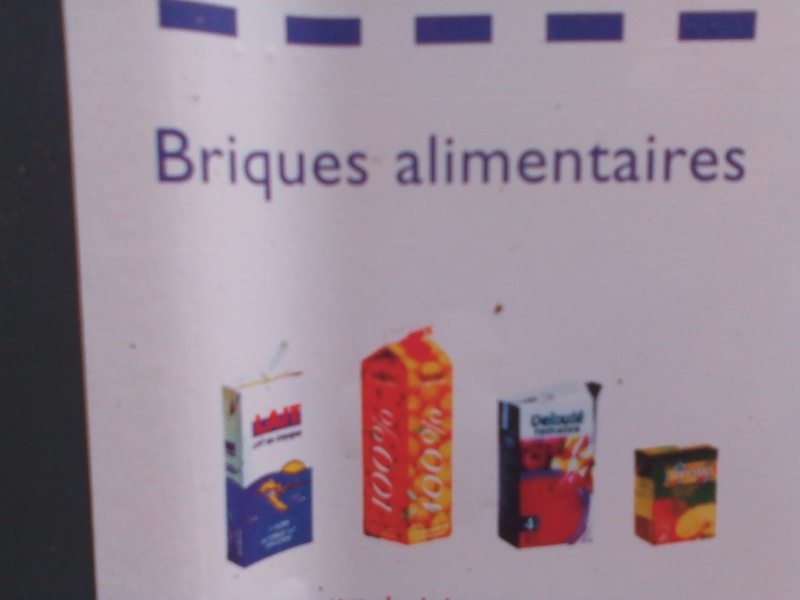text: (371, 404, 384, 514), (433, 404, 445, 514), (385, 404, 397, 514), (161, 125, 176, 207), (177, 125, 192, 207), (193, 125, 208, 207), (209, 125, 224, 207), (225, 125, 240, 207), (241, 125, 256, 207), (257, 125, 272, 207), (273, 125, 288, 207), (289, 125, 304, 207), (305, 125, 320, 207), (321, 125, 336, 207), (337, 125, 352, 207), (353, 125, 368, 207), (422, 404, 432, 514), (401, 133, 416, 190), (417, 133, 432, 190), (433, 133, 448, 190), (449, 133, 464, 190), (465, 133, 480, 190), (481, 133, 496, 190), (497, 133, 512, 190), (513, 133, 528, 190), (529, 133, 544, 190), (545, 133, 560, 190), (561, 133, 576, 190), (577, 133, 592, 190), (593, 133, 608, 190), (609, 133, 624, 190), (625, 133, 640, 190), (641, 133, 656, 190), (657, 133, 672, 190), (673, 133, 688, 190), (689, 133, 704, 190), (705, 133, 720, 190), (721, 133, 736, 190), (737, 133, 747, 190), (257, 402, 272, 438), (273, 402, 288, 438), (289, 402, 303, 438), (392, 133, 400, 190), (273, 524, 288, 552), (155, 125, 160, 207), (673, 459, 688, 486), (689, 459, 704, 486), (259, 524, 272, 552), (257, 430, 272, 451), (273, 430, 288, 451), (289, 430, 304, 451), (545, 409, 560, 429), (561, 409, 576, 429), (705, 459, 716, 486), (273, 517, 288, 535), (531, 409, 544, 429), (289, 524, 298, 552), (369, 125, 372, 207), (577, 409, 586, 429), (666, 459, 672, 486), (545, 426, 560, 436), (561, 426, 576, 436), (264, 517, 272, 535), (289, 517, 297, 535), (531, 426, 544, 436), (529, 516, 536, 532), (252, 430, 256, 451), (577, 426, 585, 436), (254, 402, 256, 438), (524, 516, 528, 532), (305, 430, 306, 451)
